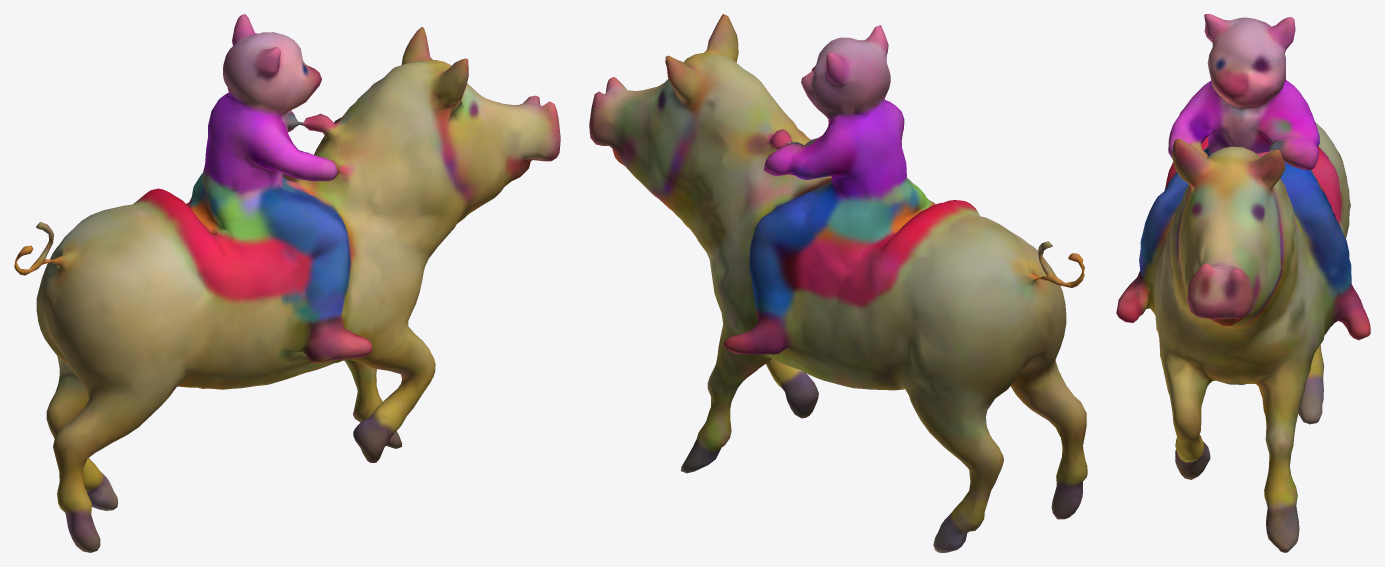
File: o_pig_lo.obj
3 views of the same model, side by side, from view 1: azimuth 30°, elevation 25°; view 2: azimuth 150°, elevation 25°; view 3: azimuth 270°, elevation 25° (orthographic). The views are drawn at different scales.
Parts seen in each view (by area): view 1: Mesh1; view 2: Mesh1; view 3: Mesh1.
Part boxes in pixels (x1,y1,x2,y2): Mesh1: [14, 14, 560, 552]; Mesh1: [589, 14, 1087, 552]; Mesh1: [1116, 14, 1370, 552].
Bounding box in the file's own units: 1.2 × 1.05 × 0.5187.
